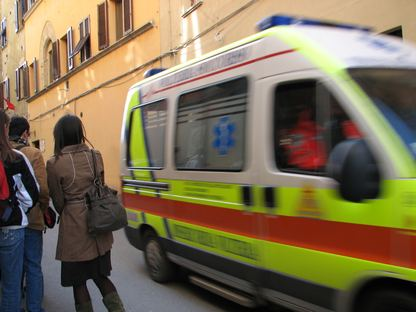ambulance: (119, 13, 416, 309)
